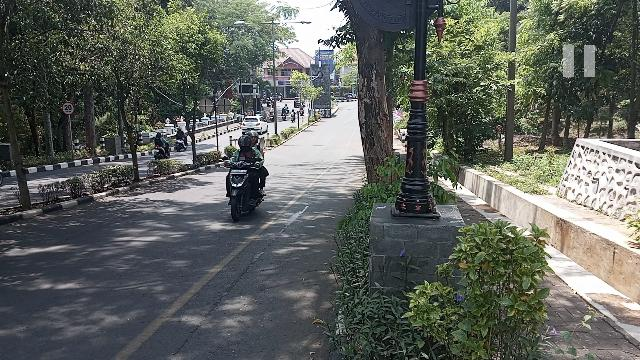helm: (239, 136, 254, 153), (248, 131, 260, 146)
motor: (223, 157, 268, 224)
